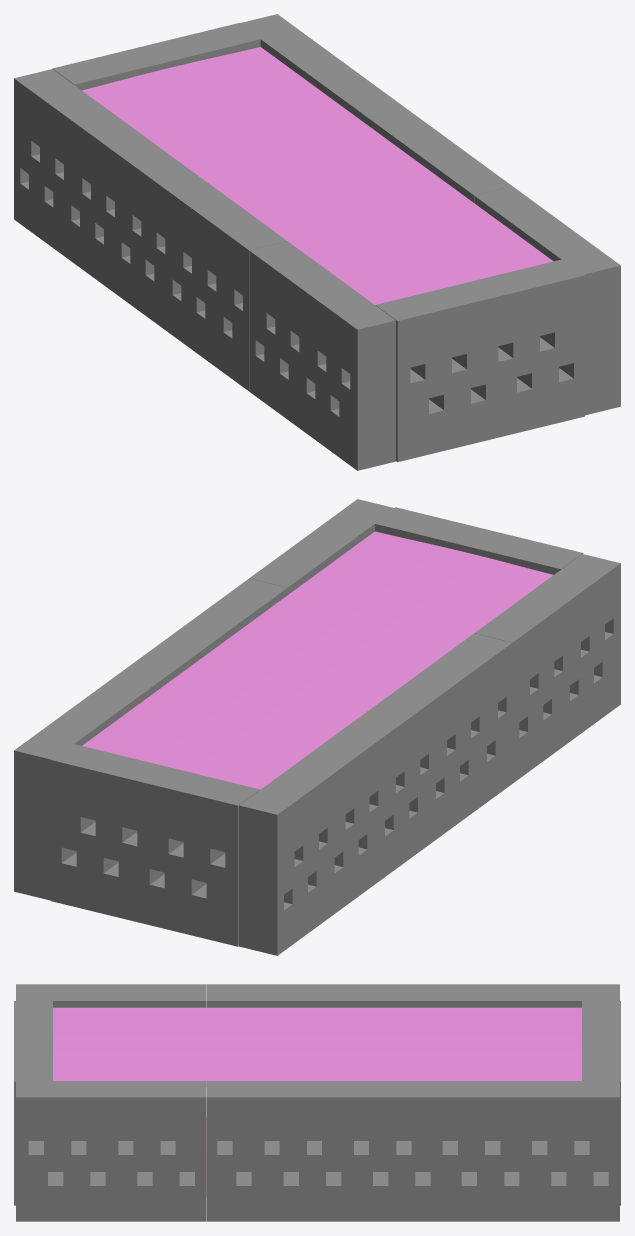
File: passerelle03.fbx
3 views of the same model, one above another, from view 1: azimuth 30°, elevation 25°; view 2: azimuth 150°, elevation 25°; view 3: azimuth 270°, elevation 25° (orthographic). The views are drawn at different scales.
Parts seen in each view (by area): view 1: passerelle01; view 2: passerelle01; view 3: passerelle01.
Boxes of the visible parts, x1,y1,x2,y2 form: passerelle01: (14, 14, 620, 470); passerelle01: (14, 499, 620, 955); passerelle01: (14, 984, 620, 1221).
Size of the model in its own units: 1.91 by 0.9755 by 4.32.
